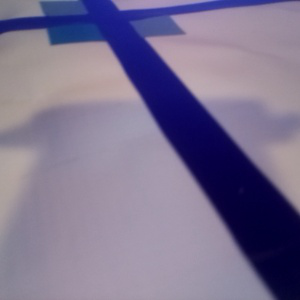bottom_left: (47, 16, 131, 44)
bottom_right: (101, 11, 183, 37)
top_left: (40, 1, 112, 23)
